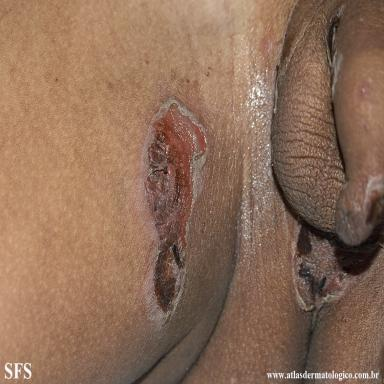Impetigo: (138, 96, 210, 332), (289, 220, 365, 313), (363, 174, 384, 229)
